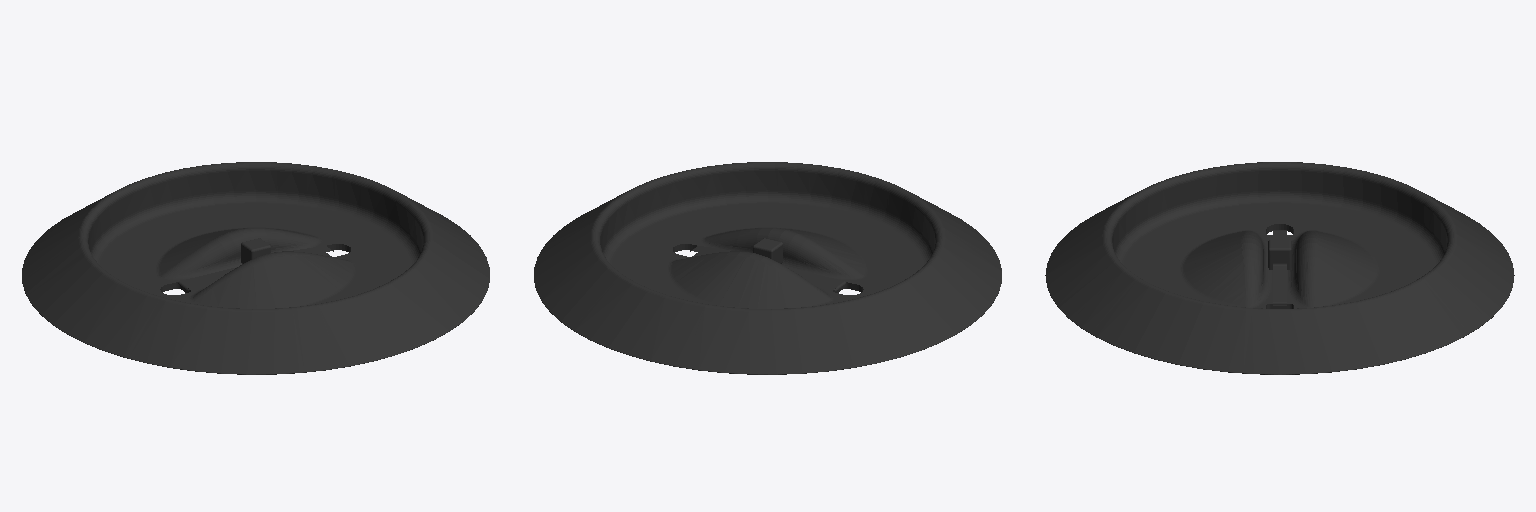
Rendered from GroundJunction.obj.
3 views of the same model, side by side, from view 1: azimuth 30°, elevation 25°; view 2: azimuth 150°, elevation 25°; view 3: azimuth 270°, elevation 25° (orthographic).
Parts seen in each view (by area): view 1: mesh298.001; view 2: mesh298.001; view 3: mesh298.001.
Part boxes in pixels (x1,y1,x2,y2): mesh298.001: (22, 162, 489, 374); mesh298.001: (534, 162, 1001, 374); mesh298.001: (1045, 162, 1514, 374).
Size of the model in its own units: 0.1519 by 0.0143 by 0.1519.